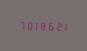eight: (38, 19, 44, 31)
one: (31, 19, 37, 30), (59, 20, 65, 31)
seven: (17, 19, 23, 30)
six: (45, 20, 51, 31)
two: (52, 20, 58, 31)
zero: (24, 19, 30, 30)
